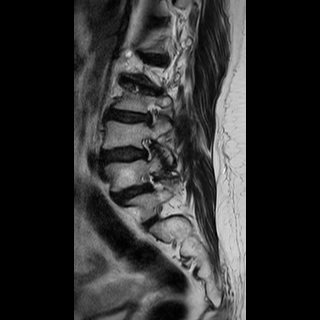RFS1: (136, 132, 158, 164)
